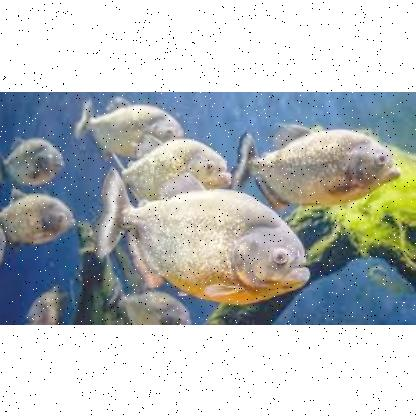ikan-pacu: (104, 191, 312, 303), (240, 129, 398, 200), (116, 140, 232, 192), (78, 102, 178, 154), (0, 191, 74, 246), (0, 137, 68, 183)
